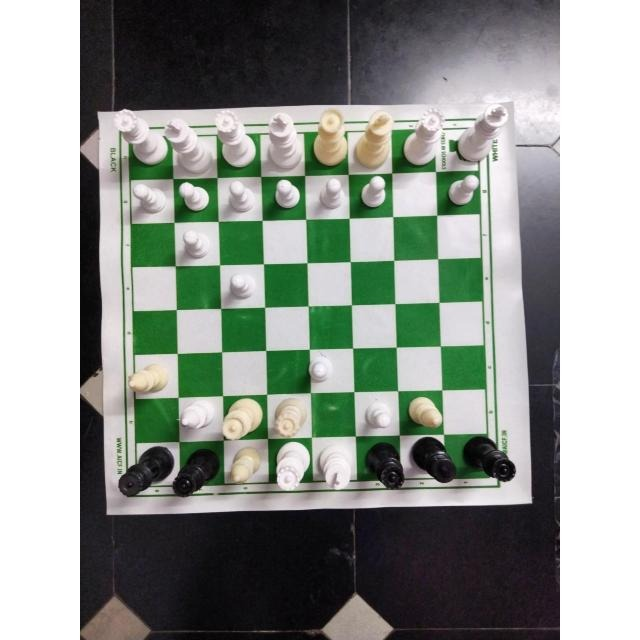black-king: (409, 435, 461, 489)
black-queen: (458, 433, 519, 489), (117, 445, 175, 501), (172, 449, 224, 499), (361, 439, 407, 493)
white-bishop: (124, 357, 176, 399), (225, 443, 266, 491), (404, 395, 448, 434), (177, 398, 218, 435)
white-king: (161, 119, 217, 177), (454, 106, 507, 163), (261, 113, 307, 174), (353, 108, 396, 172), (314, 441, 353, 493)
white-pawn: (445, 173, 487, 211), (355, 175, 392, 217), (130, 181, 170, 217), (266, 176, 303, 213), (224, 267, 262, 303), (174, 180, 214, 213), (360, 400, 399, 433), (222, 180, 258, 215), (313, 175, 347, 211), (179, 227, 213, 261), (304, 356, 340, 386)
white-queen: (110, 109, 170, 166), (212, 110, 259, 172), (401, 108, 445, 172), (308, 105, 349, 168), (271, 441, 317, 495), (218, 396, 264, 443), (266, 396, 310, 439)
